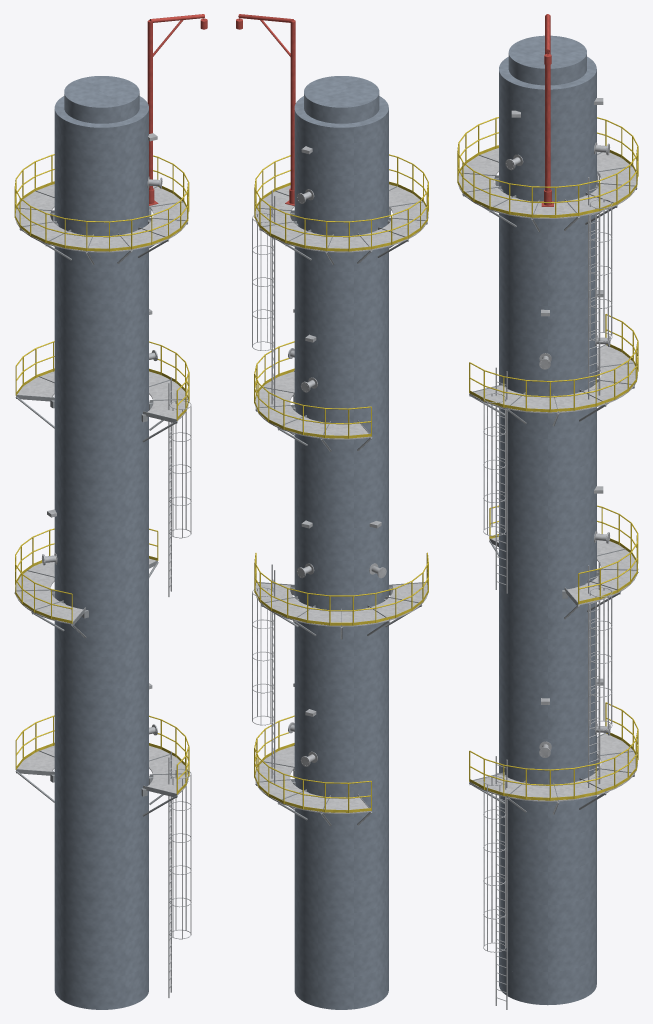
The model's file is column-platforms-and-ladders.glb.
3 views of the same model, side by side, from view 1: azimuth 30°, elevation 25°; view 2: azimuth 150°, elevation 25°; view 3: azimuth 270°, elevation 25° (orthographic). The views are drawn at different scales.
Parts seen in each view (by area): view 1: Column(context), CircularPlatforms, Handrails&ToePlates, CagedLadders, PlatformBrackets&Clips, Davit, Nozzle&PipeSupports; view 2: Column(context), CircularPlatforms, Handrails&ToePlates, CagedLadders, PlatformBrackets&Clips, Davit, Nozzle&PipeSupports; view 3: Column(context), CircularPlatforms, CagedLadders, Handrails&ToePlates, PlatformBrackets&Clips, Nozzle&PipeSupports, Davit.
Boxes of the visible parts, x1,y1,x2,y2 form: Column(context): [54, 76, 148, 1009]; CircularPlatforms: [15, 184, 188, 794]; Handrails&ToePlates: [14, 154, 189, 794]; CagedLadders: [168, 377, 191, 997]; PlatformBrackets&Clips: [14, 186, 188, 816]; Davit: [147, 14, 207, 205]; Nozzle&PipeSupports: [42, 133, 162, 735]; Column(context): [294, 76, 388, 1009]; CircularPlatforms: [254, 184, 428, 813]; Handrails&ToePlates: [254, 154, 428, 812]; CagedLadders: [252, 190, 275, 783]; PlatformBrackets&Clips: [255, 186, 427, 825]; Davit: [236, 14, 295, 205]; Nozzle&PipeSupports: [288, 146, 386, 766]; Column(context): [499, 35, 596, 1005]; CircularPlatforms: [458, 148, 638, 801]; CagedLadders: [483, 173, 612, 1009]; Handrails&ToePlates: [457, 117, 638, 800]; PlatformBrackets&Clips: [459, 152, 638, 814]; Nozzle&PipeSupports: [505, 98, 610, 757]; Davit: [541, 14, 553, 206].
Bounding box in the file's own units: 7.08 × 35.87 × 5.93.
6 materials, 6 textured.
